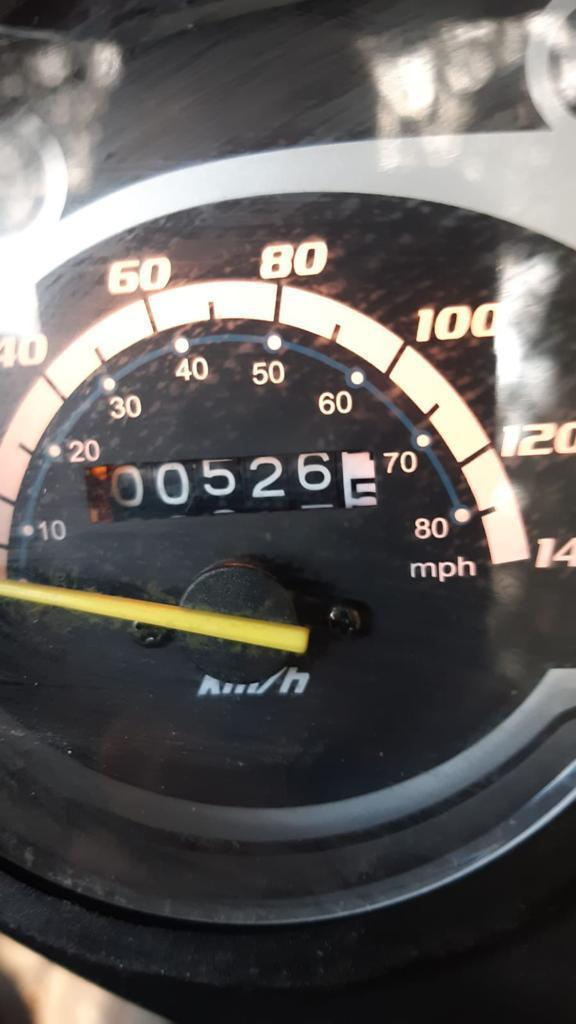0: (107, 461, 146, 510), (153, 459, 192, 508), (83, 448, 101, 463)
2: (245, 453, 288, 500)
5: (199, 455, 238, 499), (347, 474, 378, 512)
6: (294, 450, 334, 492)
odometer: (81, 448, 379, 527)
